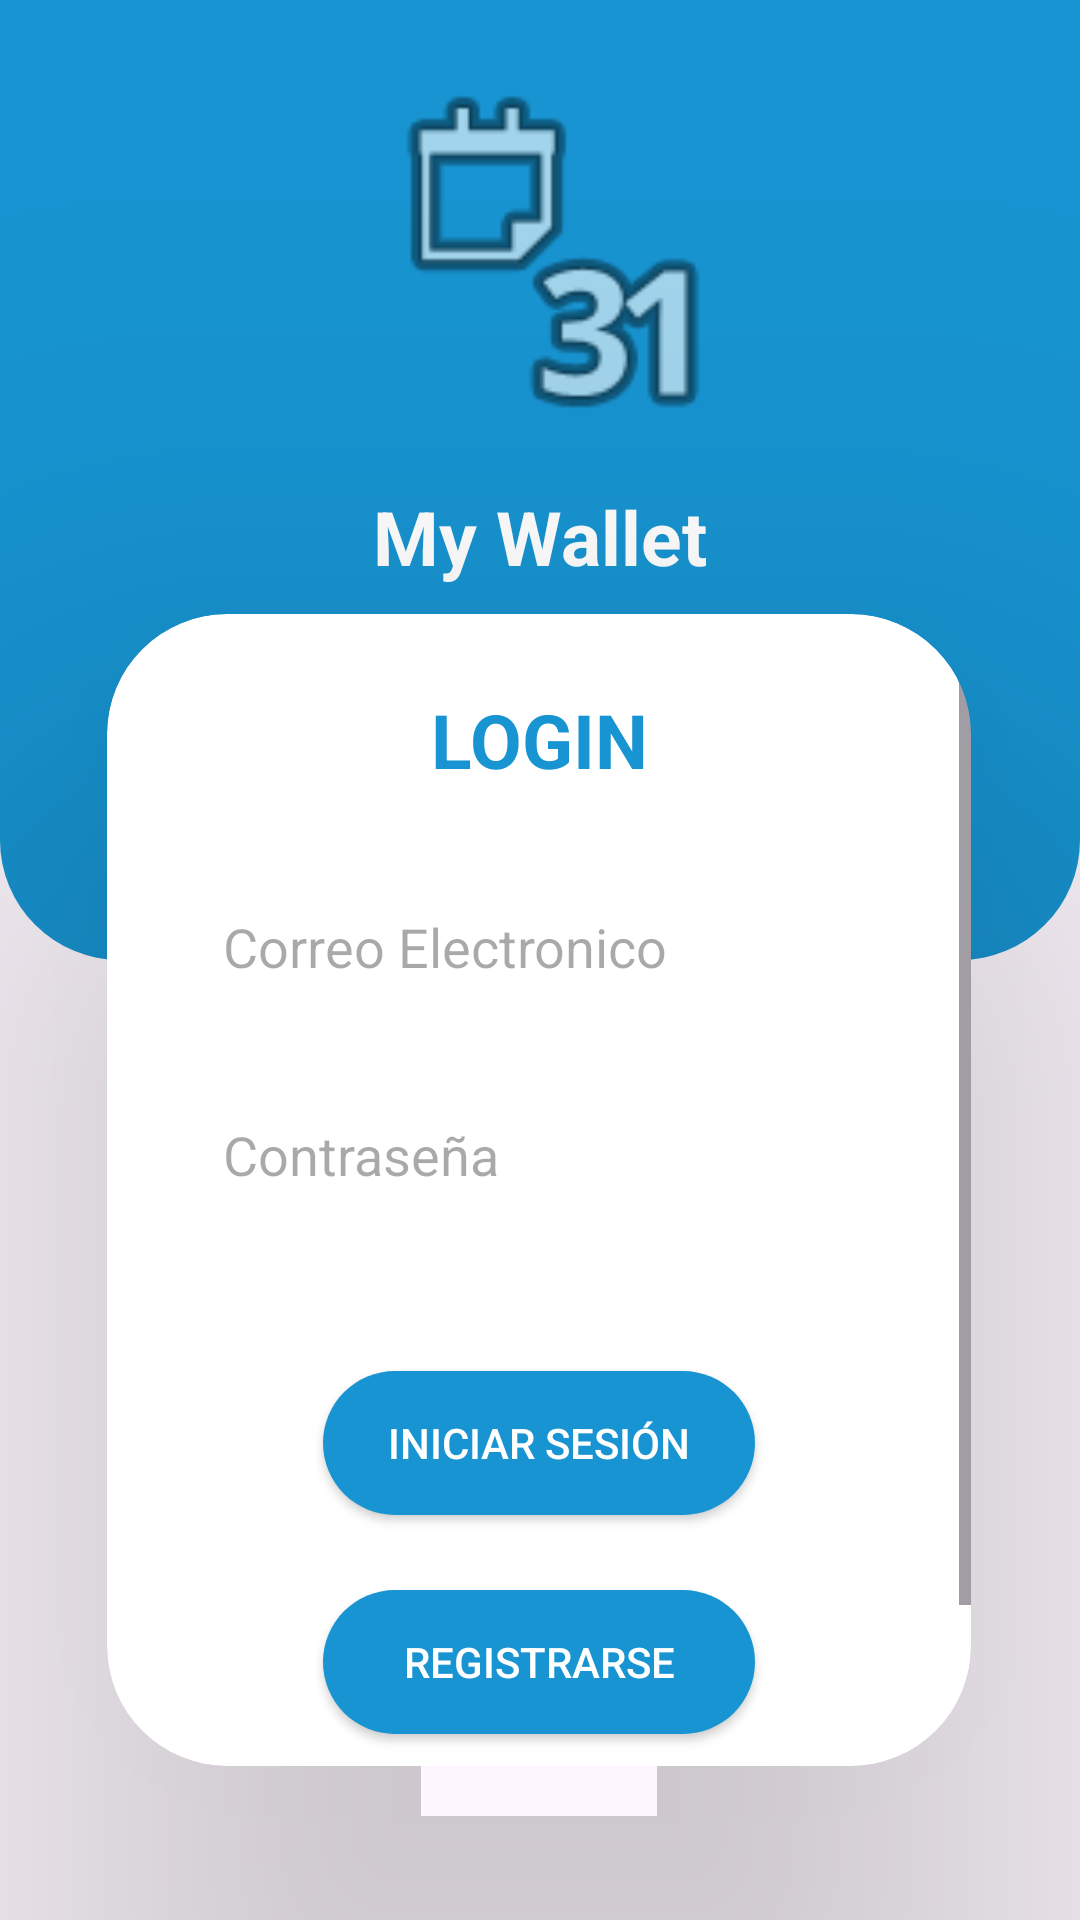

Point at icon controls on the screen. Image size 1080 x 1920, points as point (x, y).
month: point (553, 252)
